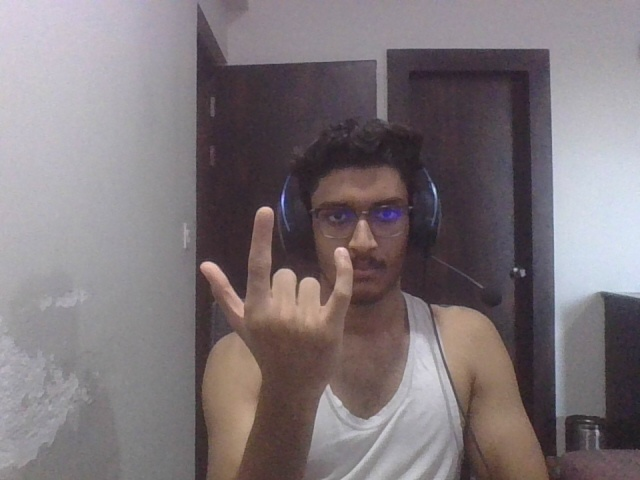I love You: (191, 201, 359, 378)
